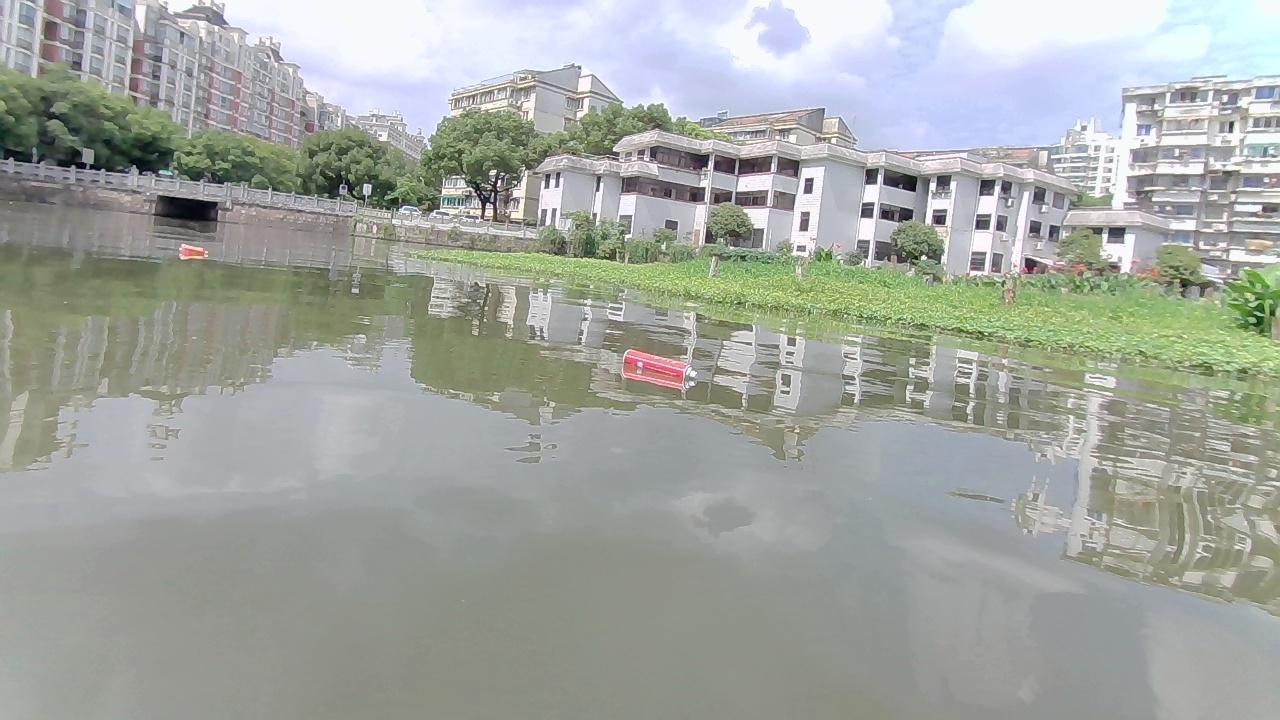bottle: (621, 347, 697, 379), (178, 242, 209, 255)
